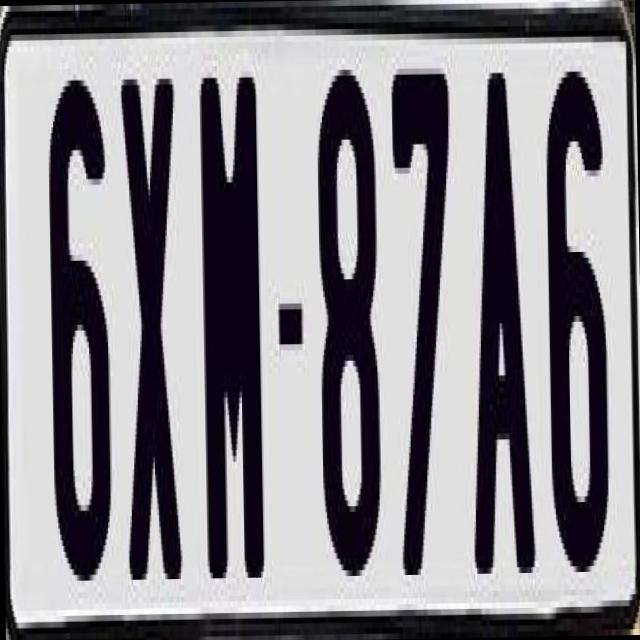6: (44, 79, 114, 616), (540, 53, 606, 566)
7: (389, 61, 459, 586)
8: (312, 62, 380, 594)
A: (462, 72, 536, 585)
M: (194, 76, 261, 614)
X: (117, 72, 181, 580)
